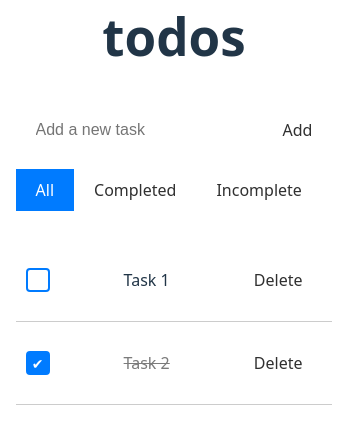
Test: App Component › Проверка фильтрации задач
Expected: the text "Task 1" is shown, top-left (124, 268), bottom-right (170, 292)
Expected: the text "Task 2" is shown, top-left (124, 351), bottom-right (170, 375)
Step 1. Click the button "Completed" → (135, 190), box top-left (74, 169), bottom-right (196, 211)
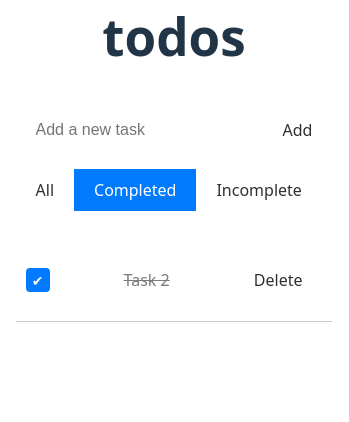
Expected: the text "Task 2" is shown, top-left (124, 268), bottom-right (170, 292)
Result: the text "Task 1" is gone
Step 2. Click the button "Incomplete" → (259, 190), box top-left (196, 169), bottom-right (322, 211)
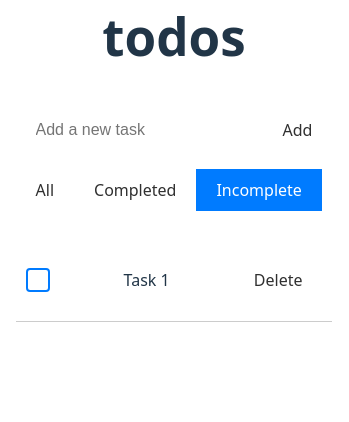
Result: the text "Task 1" is shown at top-left (124, 268), bottom-right (170, 292)
Result: the text "Task 2" is gone
